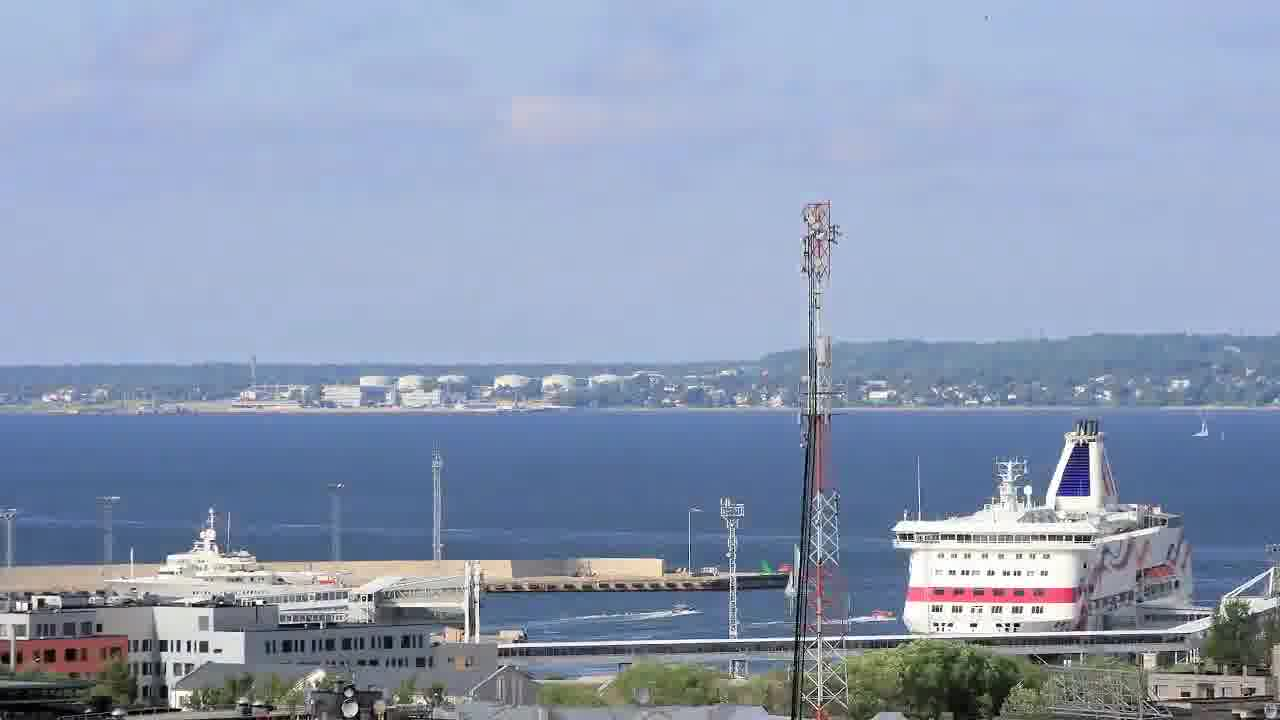type-0: (651, 595, 718, 627), (846, 599, 896, 635)
type-2: (1187, 393, 1229, 446)
type-3: (868, 415, 1225, 638), (84, 511, 353, 609)
